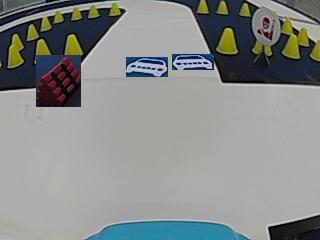evil: (250, 7, 280, 45)
